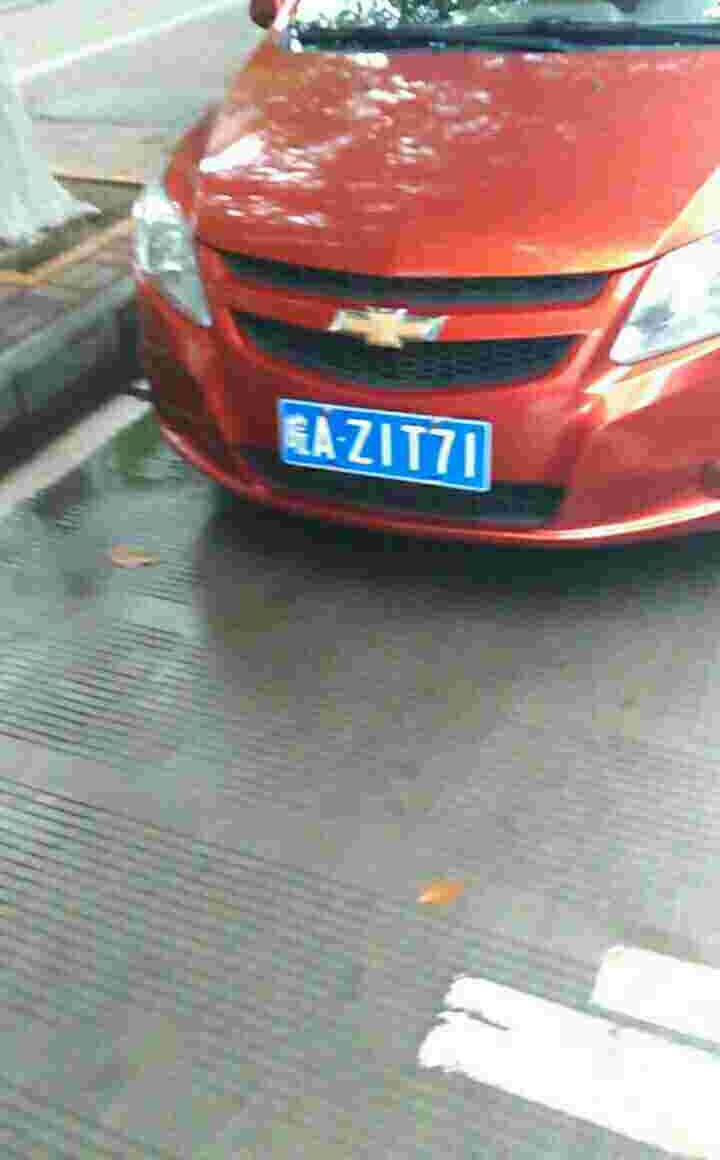plate: (278, 395, 493, 493)
